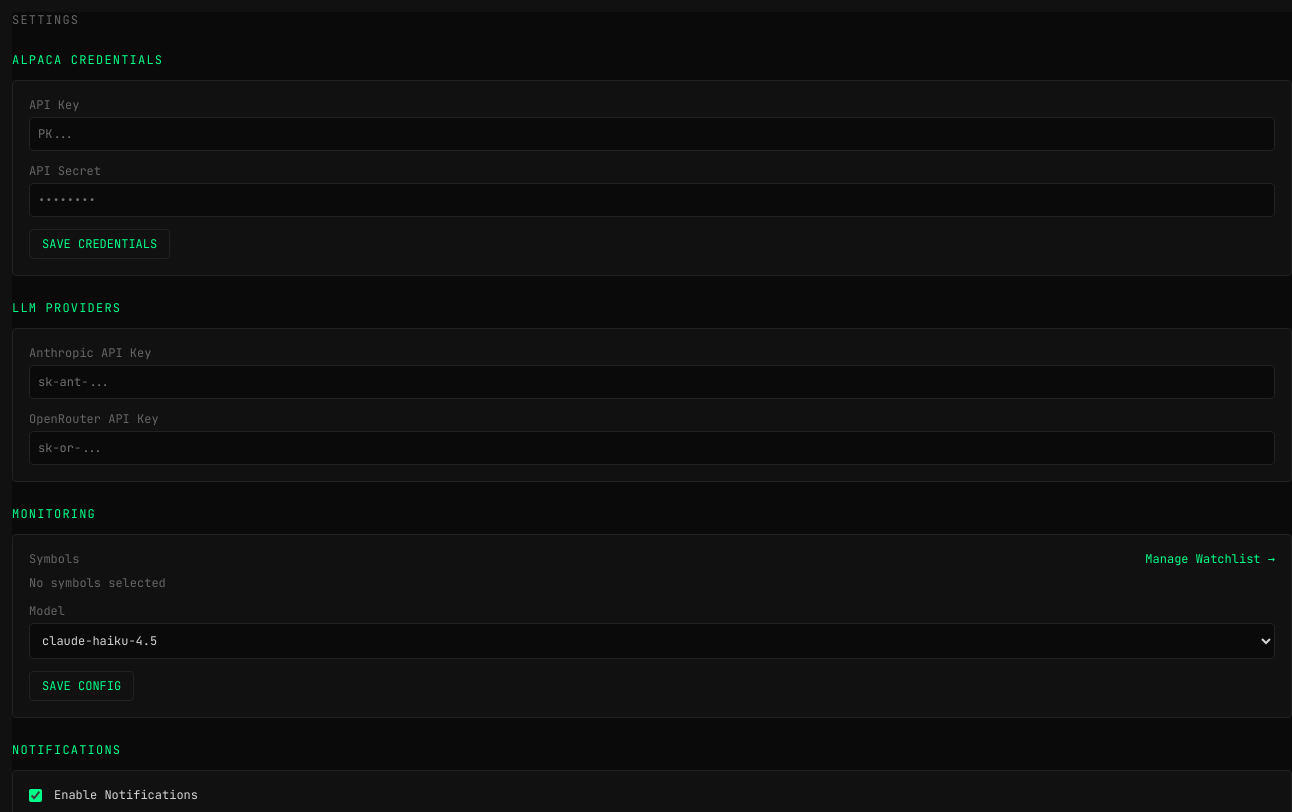
Scenario: Settings › shows toast when credentials saved
Click the button "SAVE CREDENTIALS" at (100, 244), box [29, 229, 170, 259]
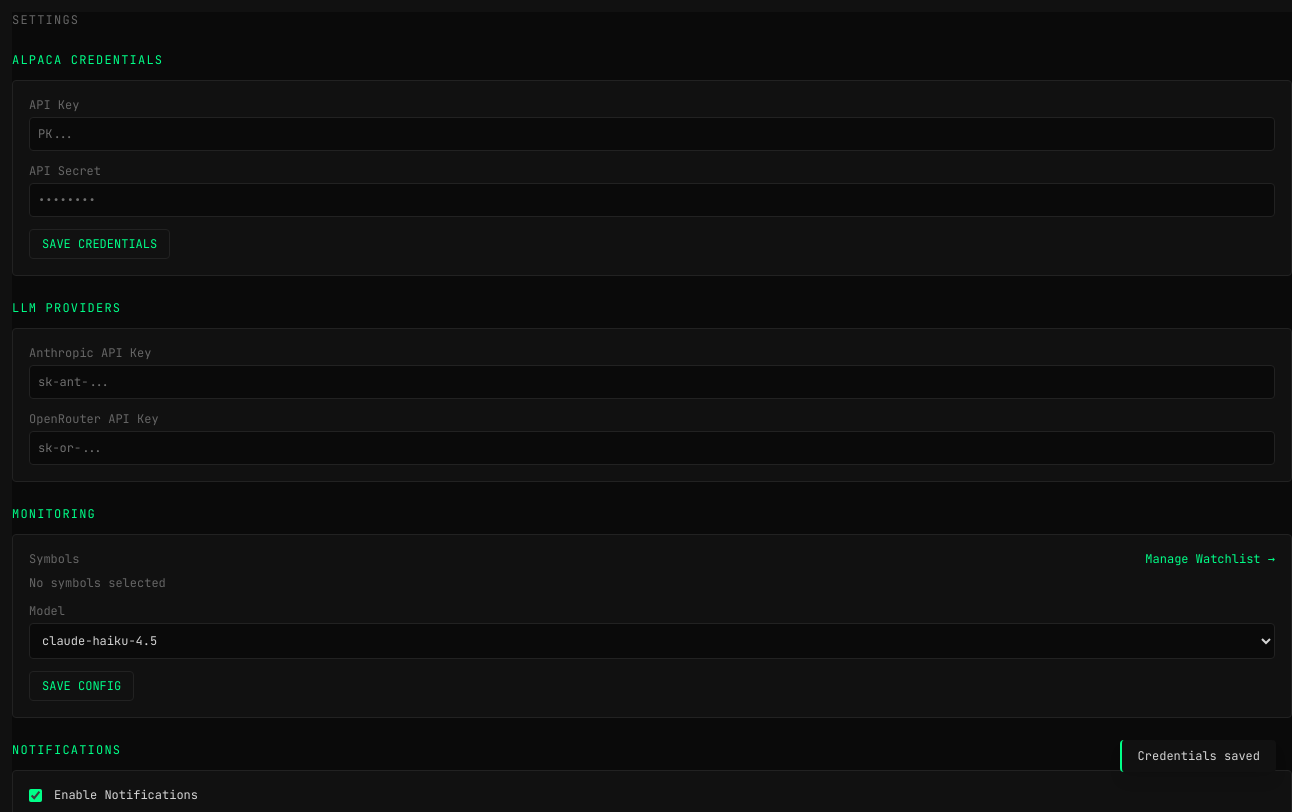
Result: the text "Credentials saved" is shown at [1120, 740, 1276, 772]
